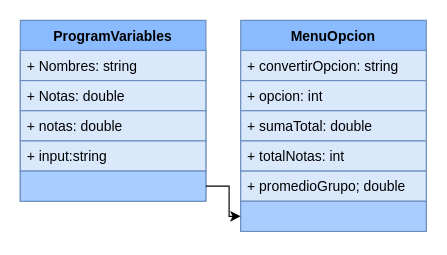
This 447x255 diagram has some shape labels left out. The shapes that lost their labels are listed below. From the top down, each one's centre as x and y in pixels, then its label:
At pixel 112 185: "+ Main(void)".
At pixel 333 215: "+ MostrarMenu(void)".
